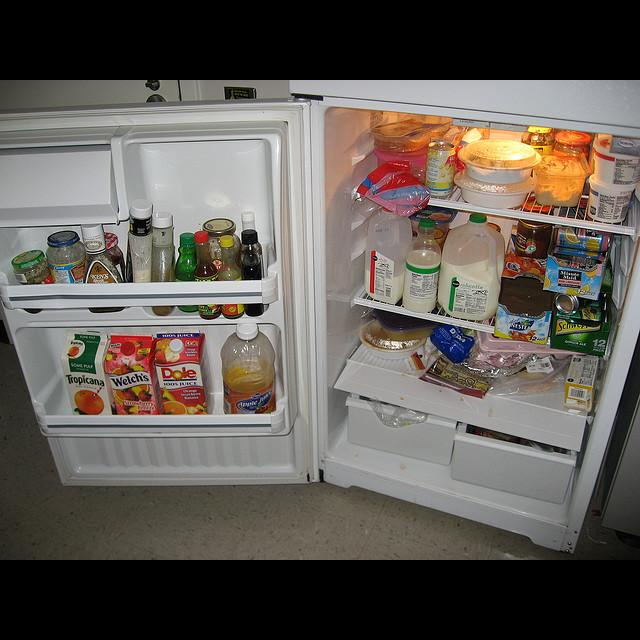Refrigerator: (0, 81, 640, 556)
